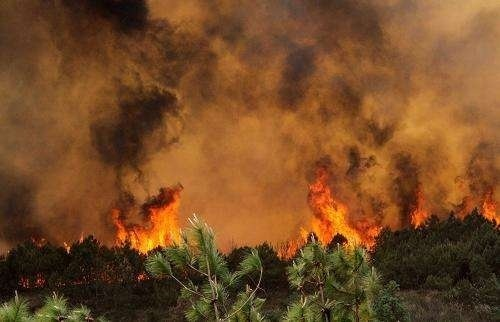fire: (289, 168, 383, 254), (109, 186, 186, 254)
